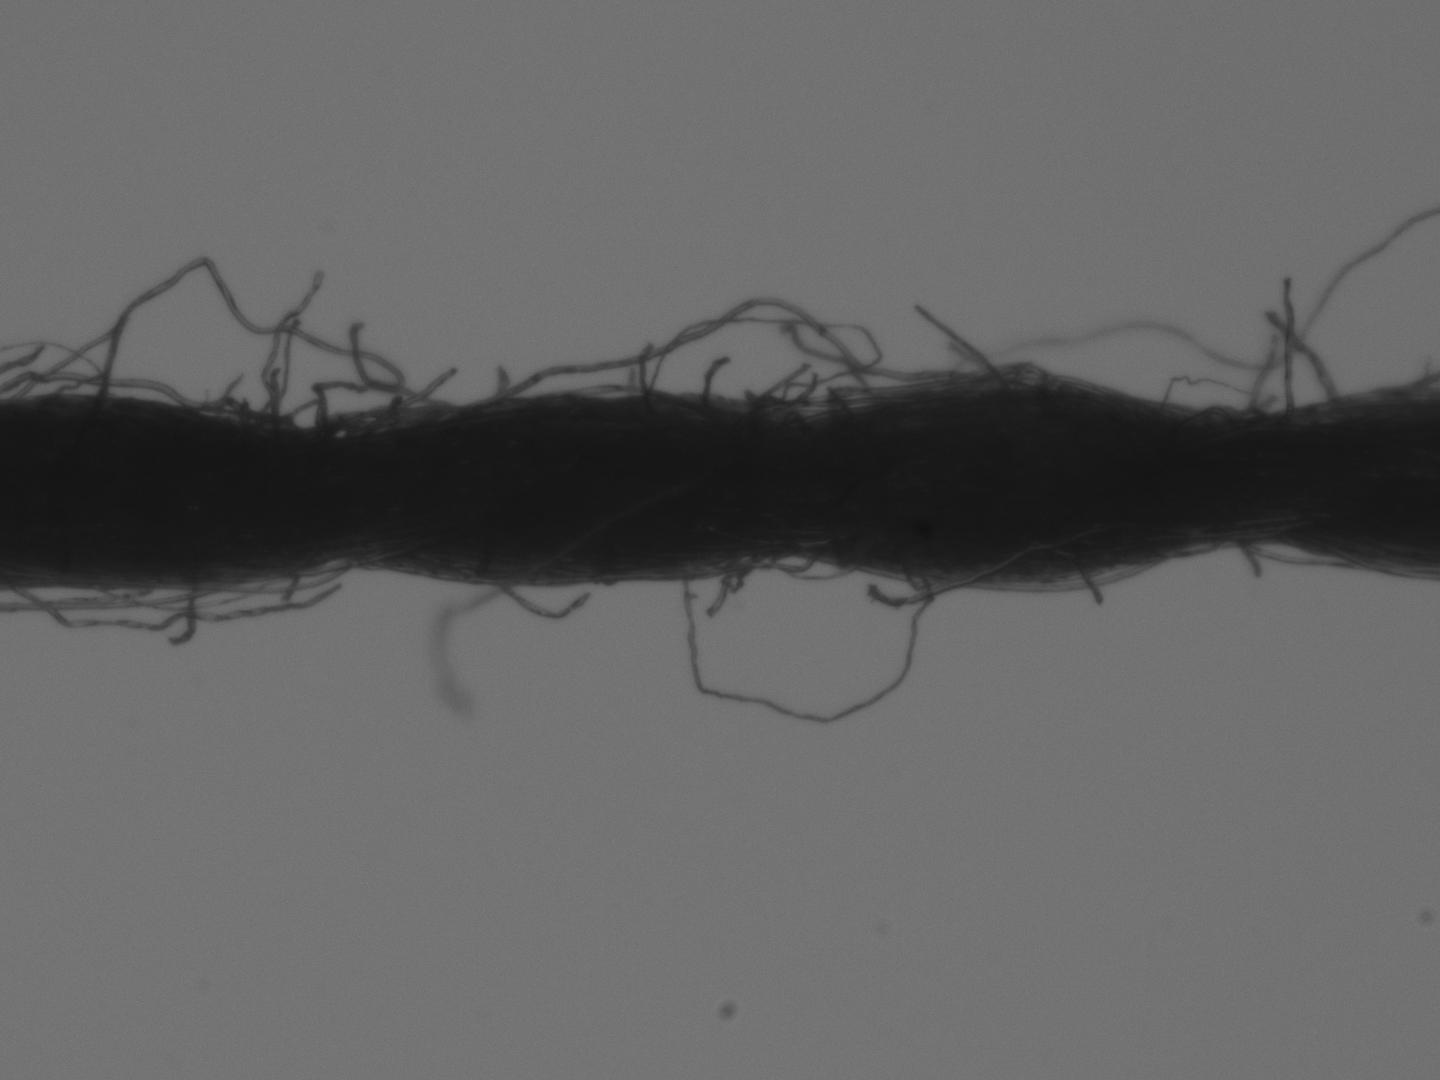loop_fiber: (91, 255, 400, 428), (491, 296, 880, 413), (675, 550, 933, 725), (645, 315, 967, 416), (726, 363, 964, 415), (1, 370, 194, 408), (314, 378, 450, 432), (171, 556, 347, 598), (1222, 535, 1364, 568), (1181, 400, 1270, 425), (736, 547, 818, 573)
protruding_fiber: (491, 574, 598, 628), (1277, 275, 1301, 408), (694, 349, 737, 405)
